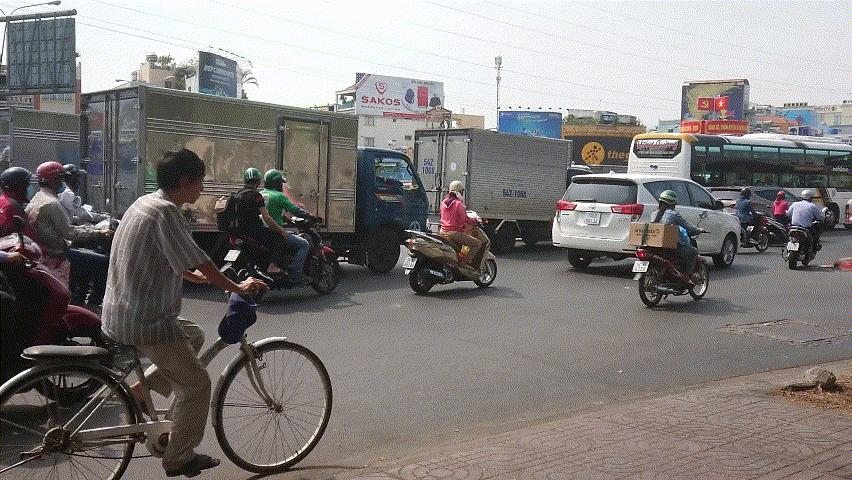bicyclist: (0, 149, 333, 480)
driver: (217, 165, 342, 305), (401, 180, 499, 295), (622, 189, 712, 308), (781, 190, 829, 270), (735, 186, 770, 252)
helmet: (0, 165, 38, 205), (35, 161, 68, 194), (263, 169, 287, 192), (241, 167, 262, 189), (658, 189, 678, 211), (449, 180, 466, 201), (801, 189, 814, 203), (740, 187, 752, 199), (777, 191, 785, 200)
no-helmet: (155, 149, 208, 207)
